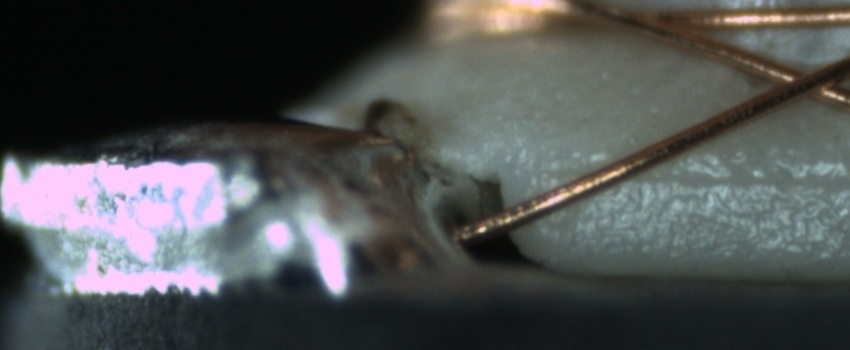CL: (755, 55, 847, 107)
DL: (545, 145, 850, 206)
